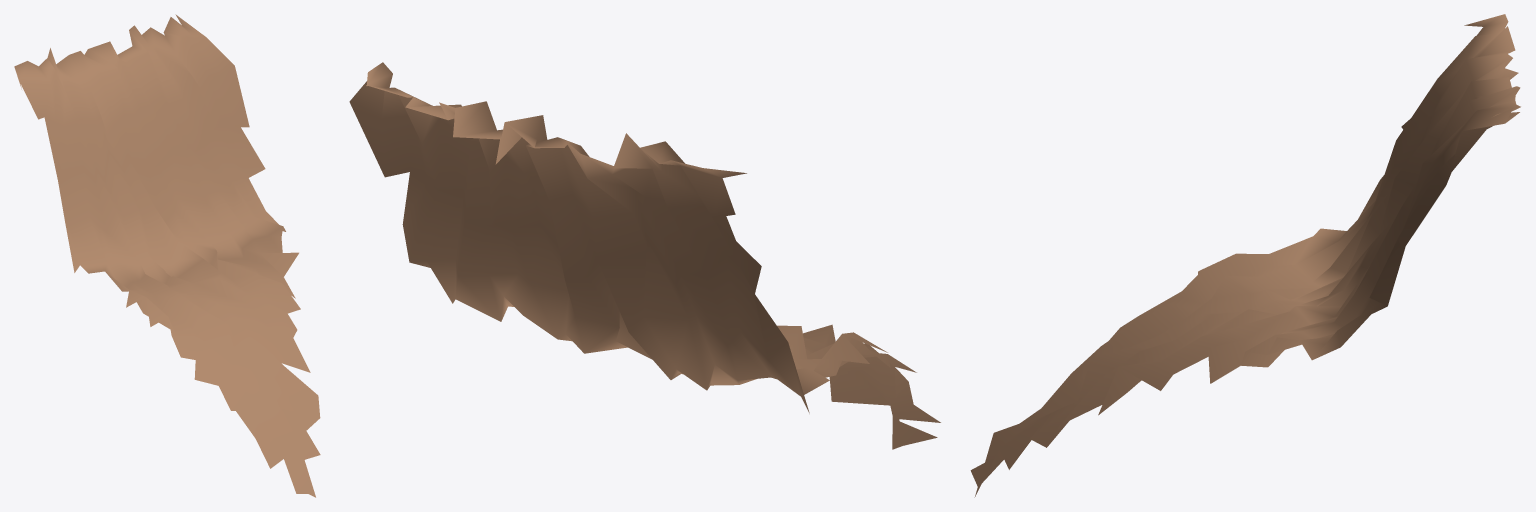
The model's file is pottery_fragment_008.obj.
3 renders of one model, left to right at view 1: azimuth 30°, elevation 25°; view 2: azimuth 150°, elevation 25°; view 3: azimuth 270°, elevation 25°, orthographic. The views are drawn at different scales.
Size of the model in its own units: 11.9 by 17.6 by 20.44.
